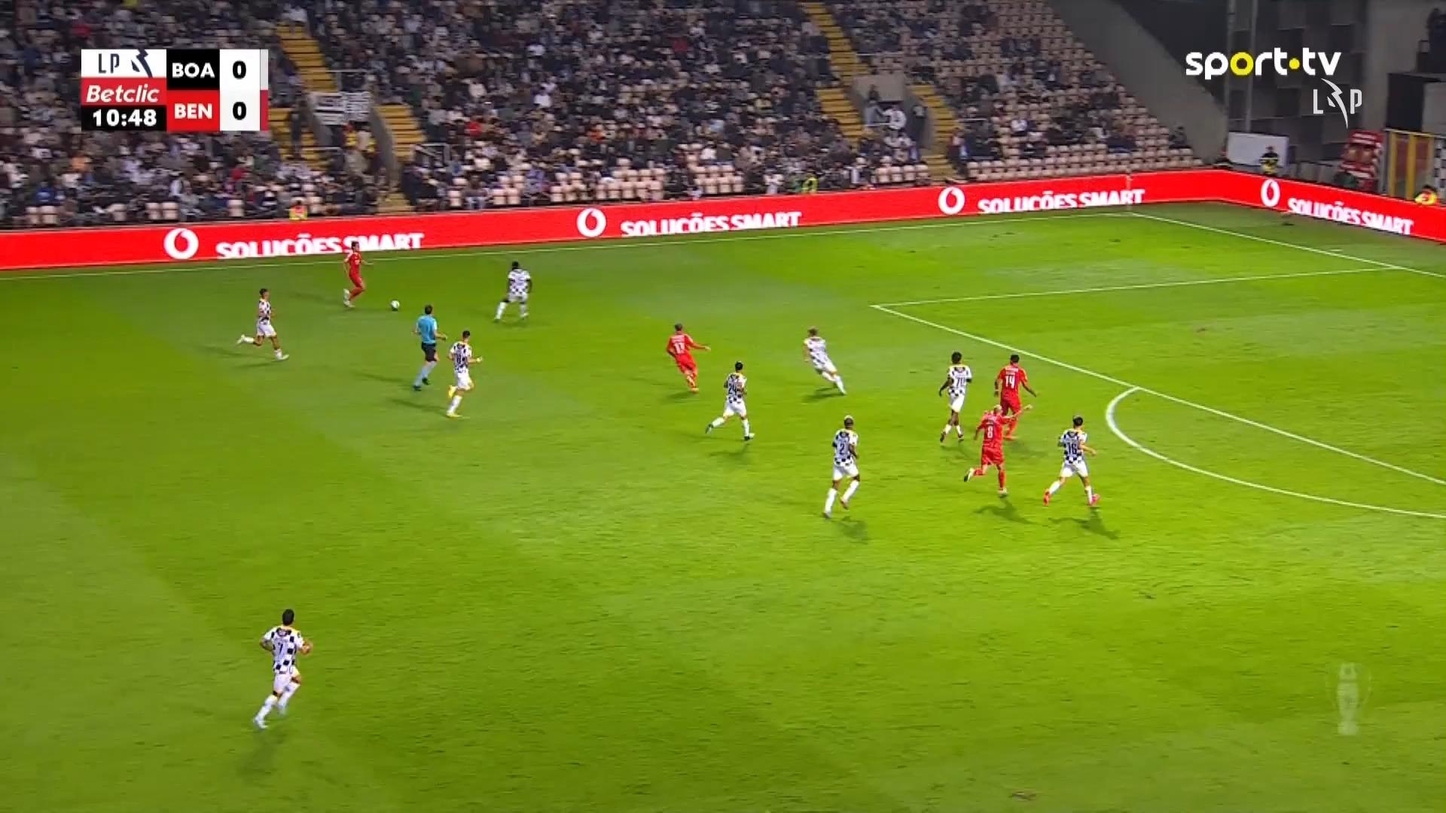ball: (389, 300, 399, 311)
player: (252, 608, 313, 729), (1041, 414, 1100, 507), (962, 403, 1011, 498), (703, 360, 755, 441), (822, 415, 861, 519), (235, 287, 289, 361), (993, 352, 1037, 439), (444, 329, 483, 418), (937, 350, 972, 443), (801, 325, 847, 395), (665, 321, 710, 392), (492, 260, 532, 322), (340, 239, 372, 309)
referee: (410, 303, 447, 391)
